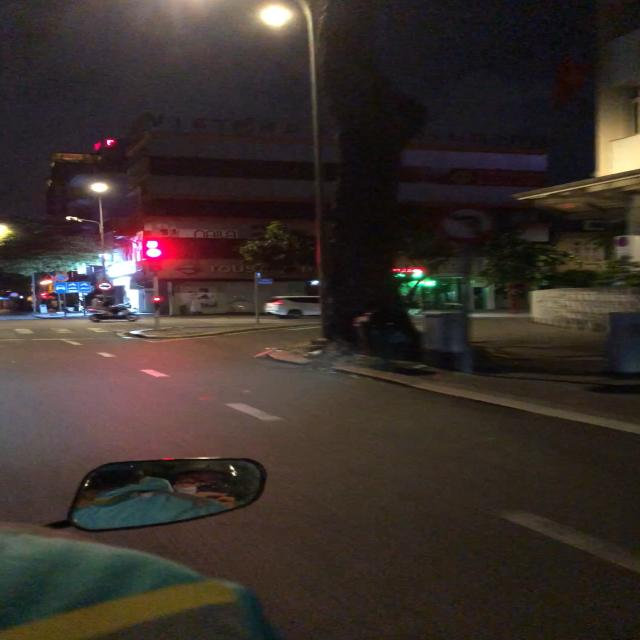Bien bao cam do xe: (52, 272, 70, 282)
Bien bao cam xe so-mi ro-mooc: (96, 280, 112, 292)
